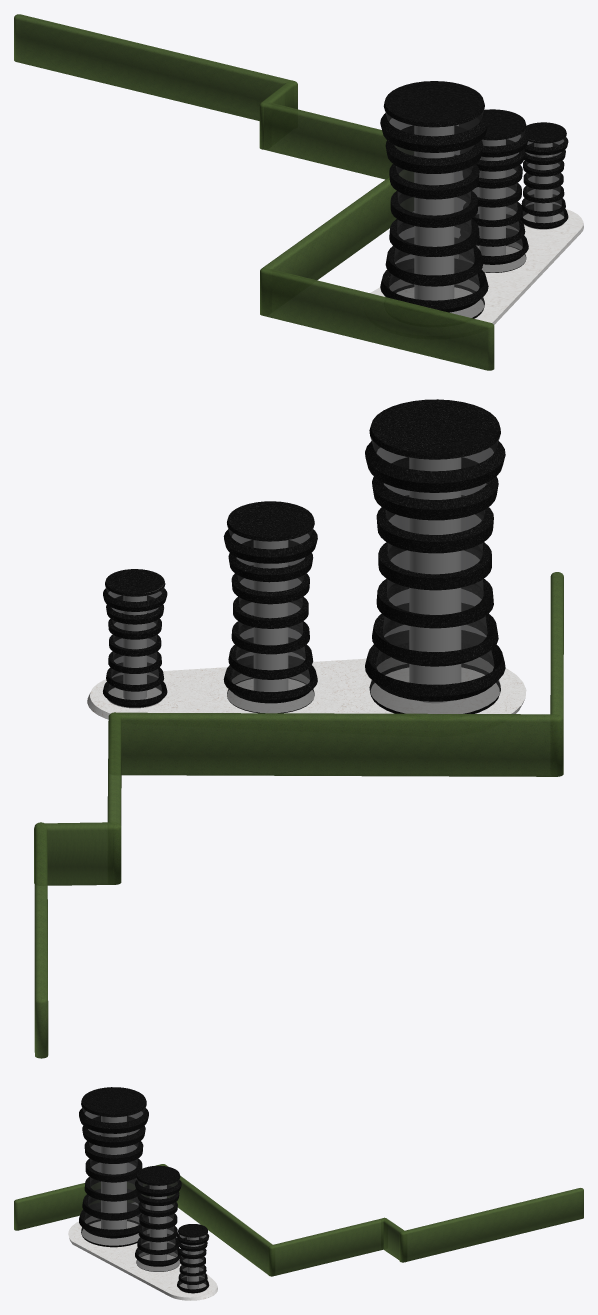
Rendered from zona8 parte1.fbx.
The picture shows the model from 3 angles, top to bottom: view 1: azimuth 30°, elevation 25°; view 2: azimuth 150°, elevation 25°; view 3: azimuth 270°, elevation 25°; orthographic projection. The views are drawn at different scales.
Parts seen in each view (by area): view 1: Bark.028, Bark.054; view 2: Bark.054, Bark.028; view 3: Bark.054, Bark.028.
Boxes of the visible parts, x1=… form: Bark.028: x1=14, y1=14, x2=494, y2=370; Bark.054: x1=370, y1=81, x2=583, y2=324; Bark.054: x1=87, y1=399, x2=526, y2=719; Bark.028: x1=34, y1=572, x2=563, y2=1058; Bark.054: x1=68, y1=1087, x2=217, y2=1300; Bark.028: x1=14, y1=1164, x2=583, y2=1276.
Bounding box in the file's own units: 7634 × 4529 × 17101.
Materials: 6 (2 with a texture image).
